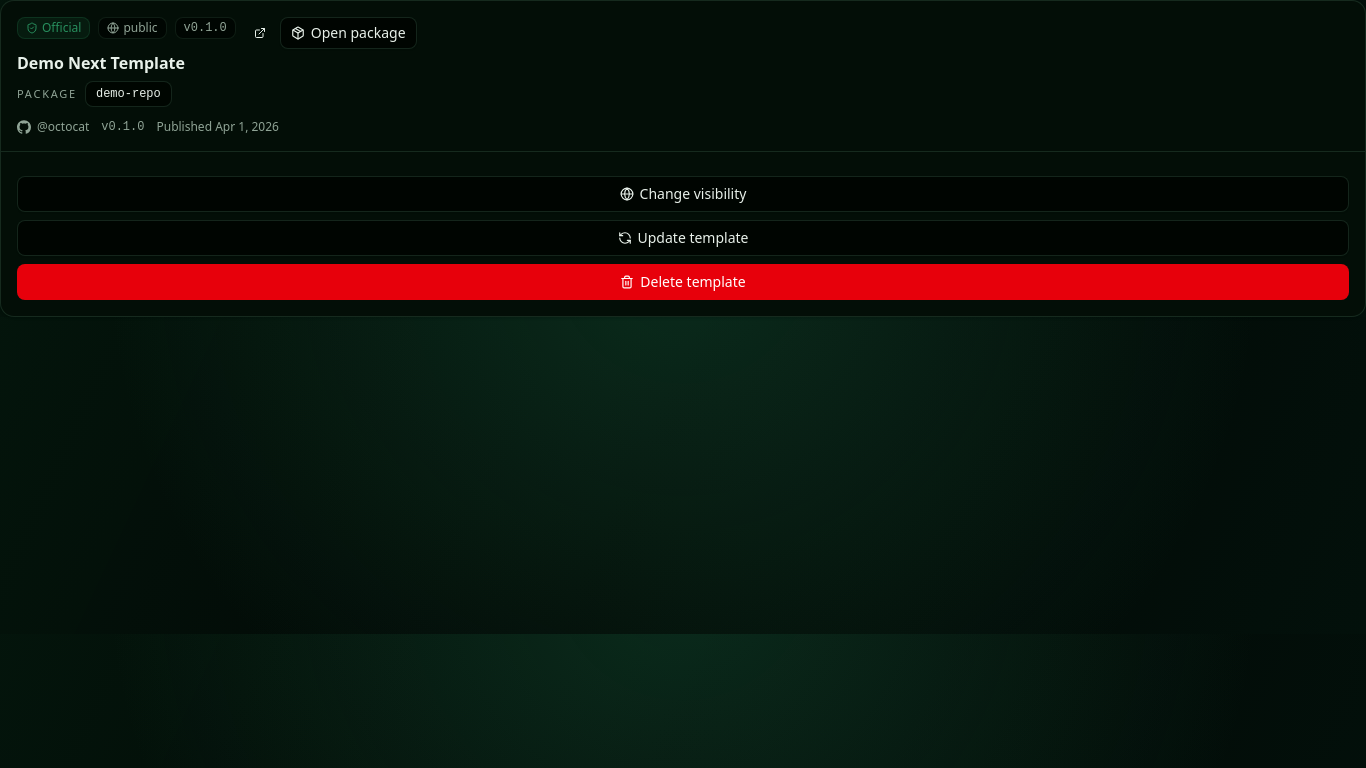
Test: OwnedTemplateCard › shows refresh failures inline
Click the button "Update template": (683, 238) [17,220,1349,256]
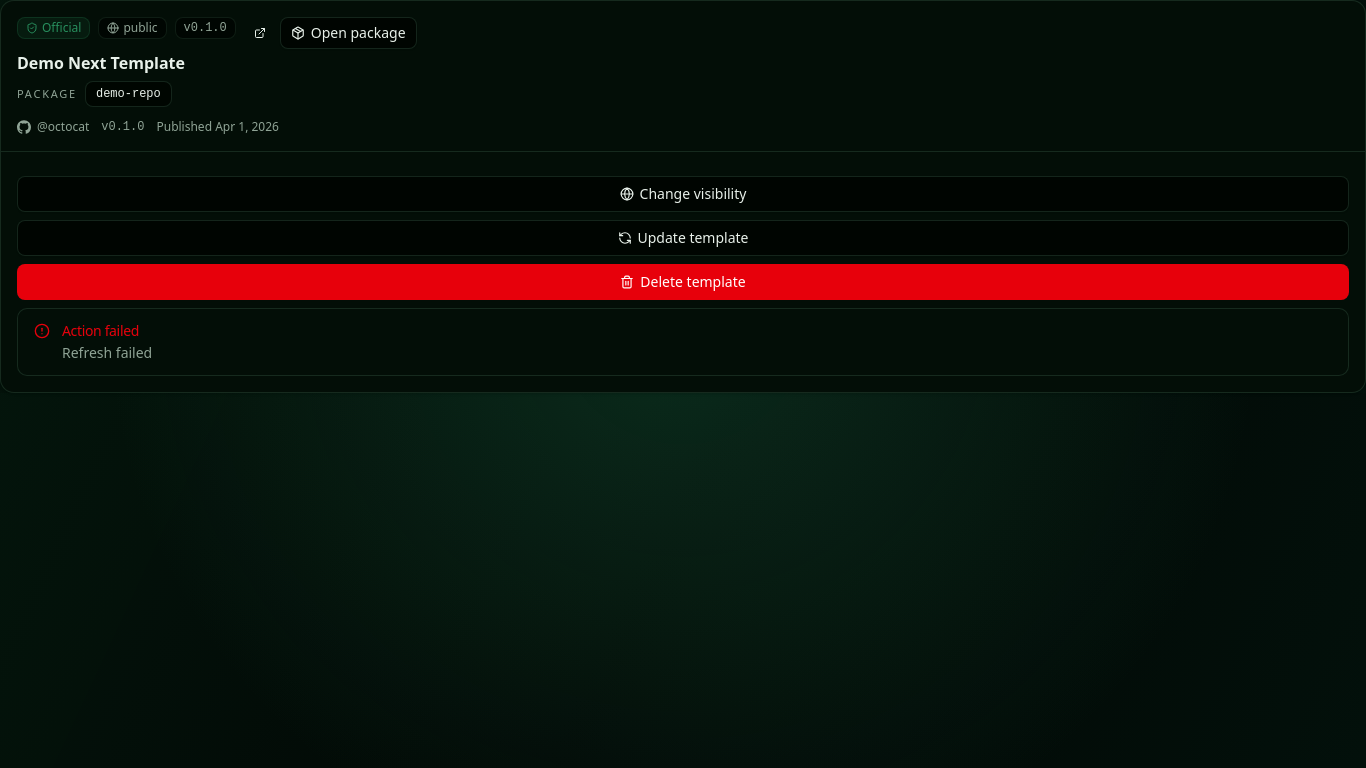
Expected: the heading "Action failed" is shown, [62,321,139,340]
Expected: the text "Refresh failed" is shown, [62,343,152,362]
